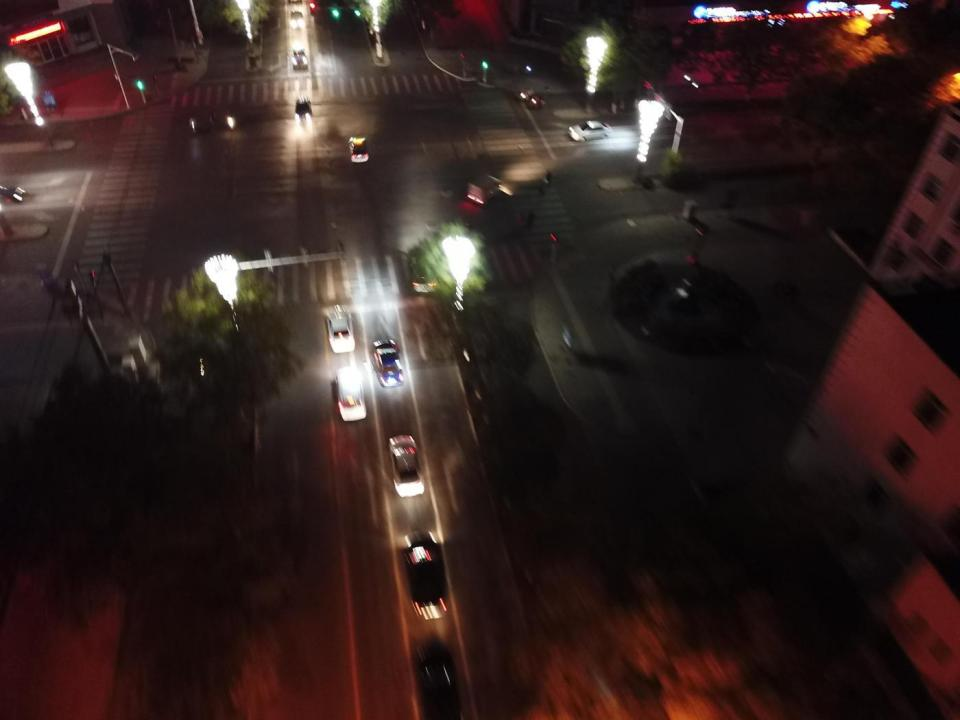car: (414, 633, 462, 720), (403, 530, 447, 621), (389, 435, 424, 497), (409, 246, 439, 293), (326, 305, 355, 353), (568, 120, 611, 140), (295, 95, 313, 126), (1, 184, 26, 204), (349, 137, 369, 162), (290, 47, 307, 69), (802, 46, 822, 60), (290, 11, 305, 29)
van: (334, 366, 366, 421), (373, 338, 403, 386), (467, 174, 503, 206)
